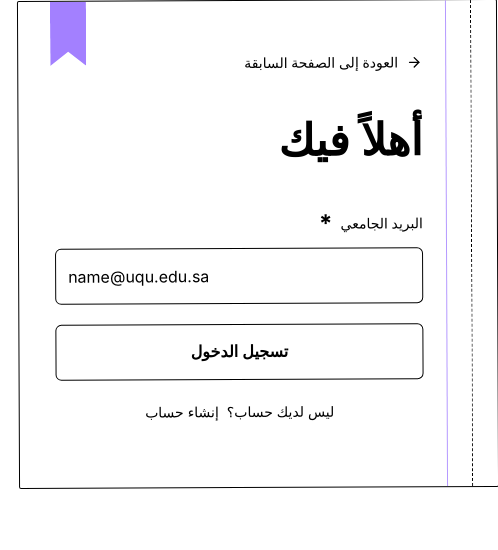
SignInFlow (against the MSW mocks) › asks an admin-added person to confirm the stored name
Type "s000000016@st.uqu.edu.sa" into the field labelled "البريد الجامعي *". click: (239, 276)
box: [55,247,423,305]
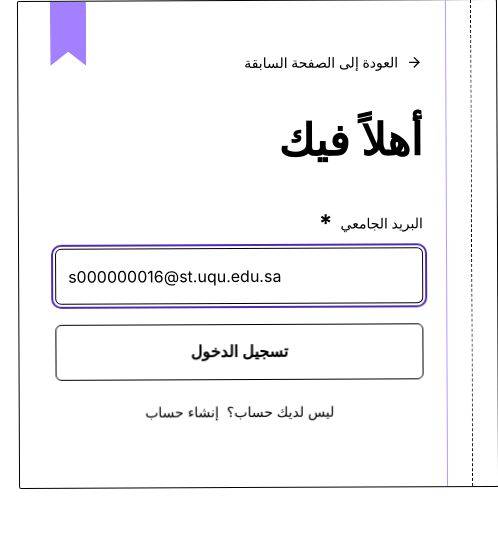
Click the button "تسجيل الدخول". click: (240, 352)
box: [55,323,424,381]
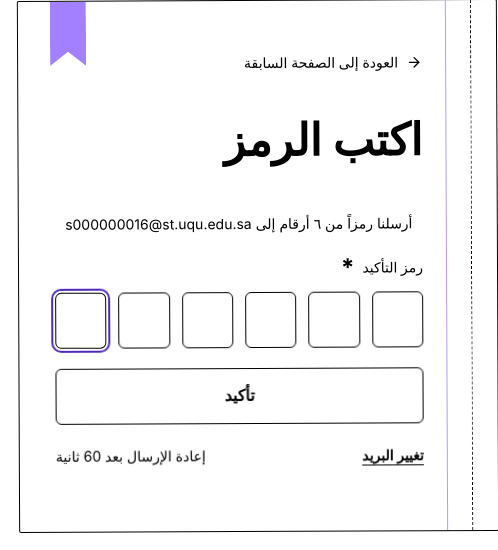
Type "123456" into the field labelled "رمز التأكيد *". click: (81, 321)
box: [55,293,107,349]
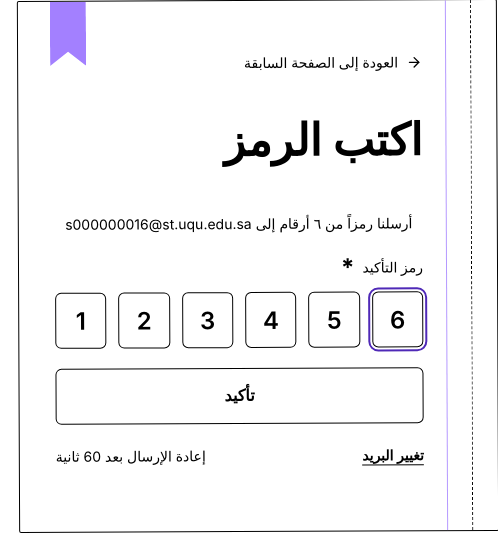
Click the button "تأكيد". click: (240, 396)
box: [55,367,424,425]
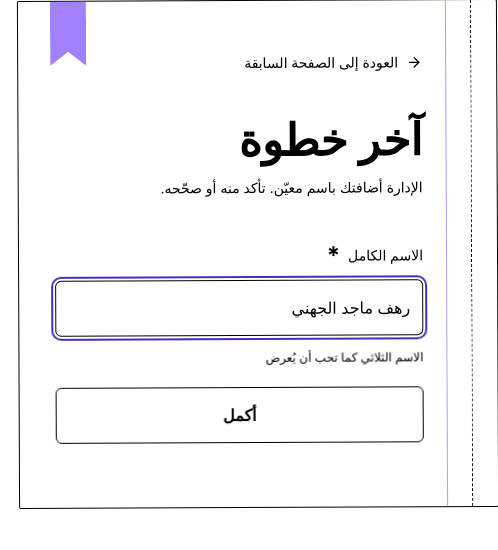
Now the field labelled "الاسم الكامل *" holds "رهف ماجد الجهني", box [55,279,423,337]
